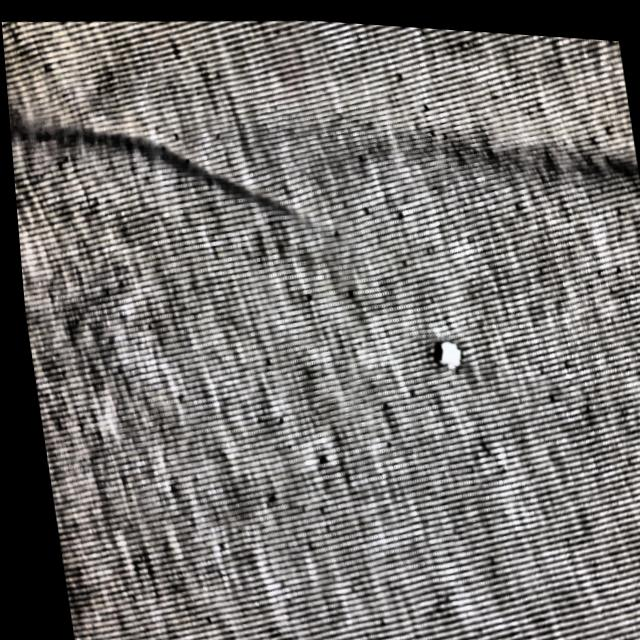Hole: (311, 419, 358, 472)
